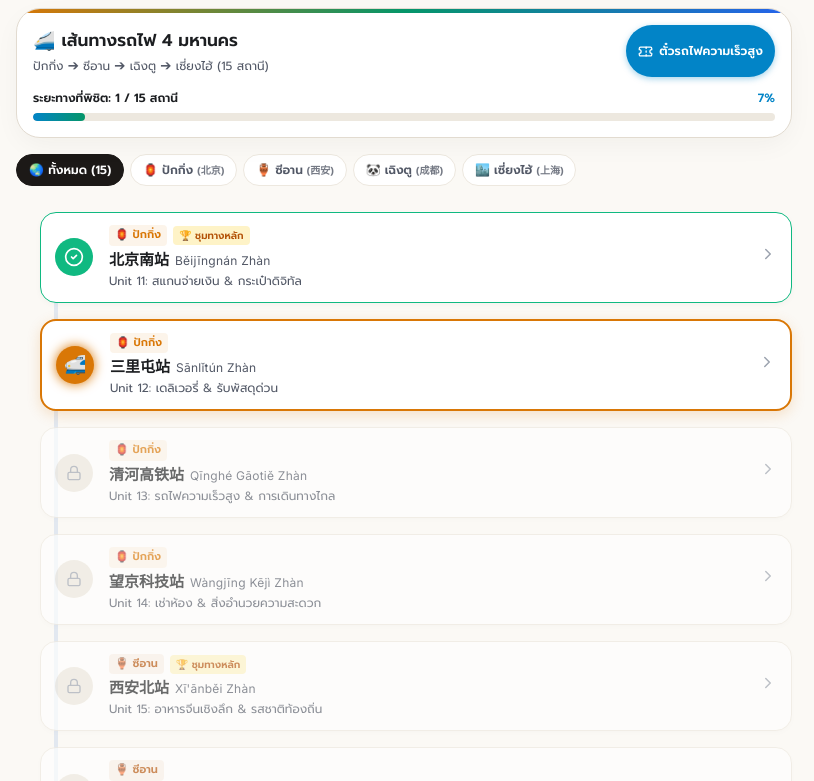
Scenario: HsrQuestMap Component (TASK-706) › filters stations when clicking Metropolis hub buttons
Click the button with test id "filter-hub-xian": click(295, 170) [243,154,347,186]
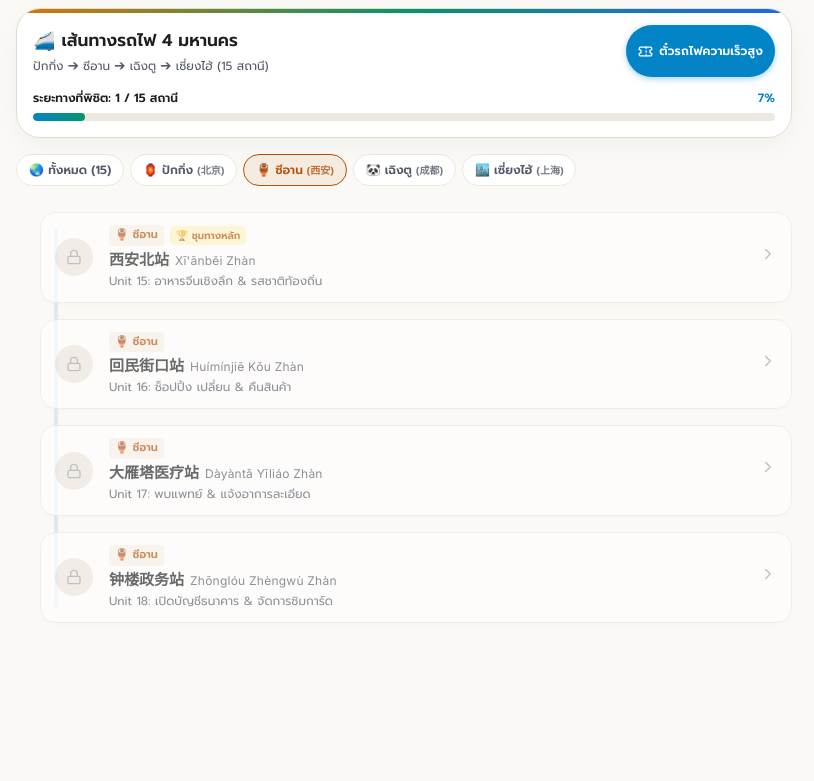
Check: the element with test id "hsr-station-node-15" is shown, box [40,212,792,303]
Check: the element with test id "hsr-station-node-11" is gone
Reset to All
Click the button with test id "filter-hub-all": click(70, 170) [16,154,124,186]
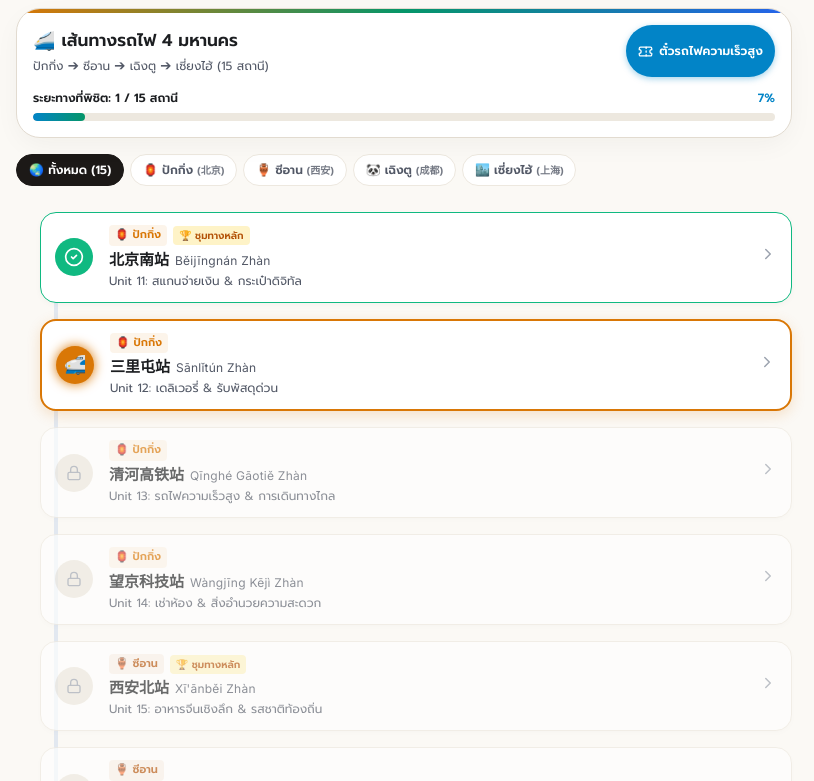
Check: the element with test id "hsr-station-node-11" is shown, box [40,212,792,303]
